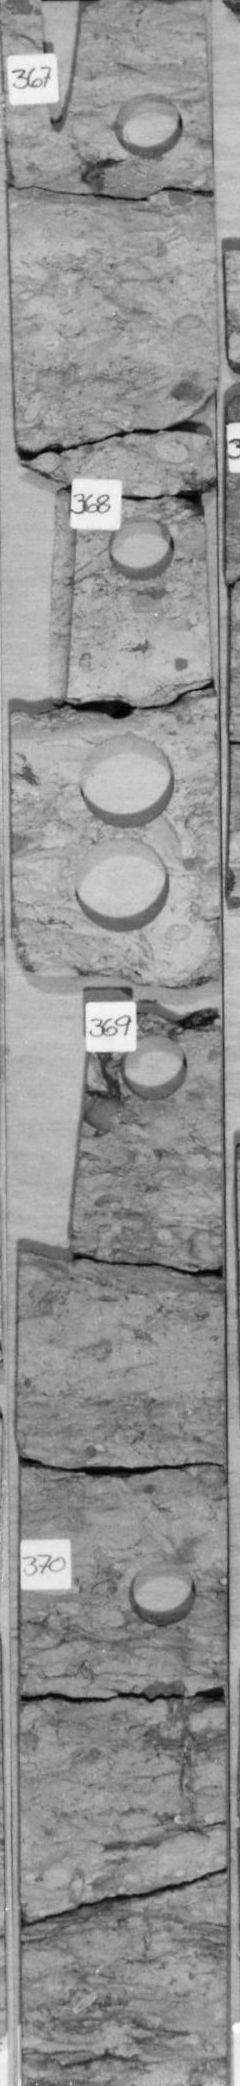hplug: (107, 86, 189, 164), (121, 1554, 201, 1631), (115, 1032, 191, 1106), (101, 516, 181, 581)
scal: (72, 725, 180, 831), (69, 831, 173, 937)
vplug: (23, 996, 99, 1269), (21, 459, 83, 718)
